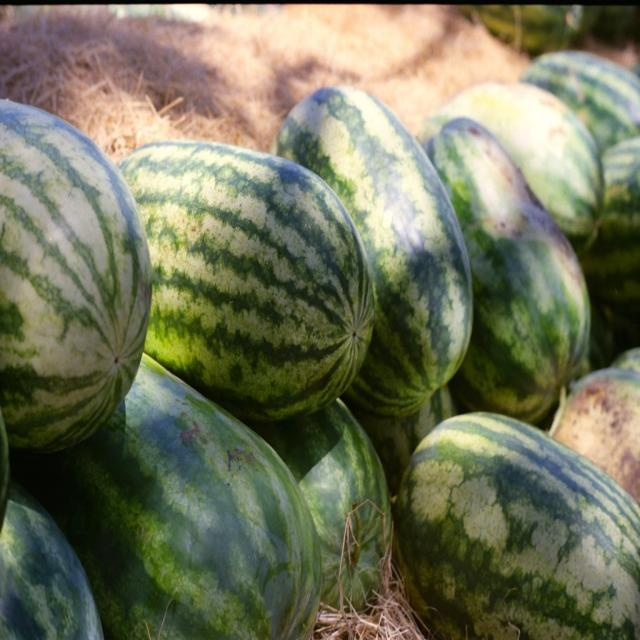Watermelon: (0, 0, 639, 639), (108, 135, 374, 425)
